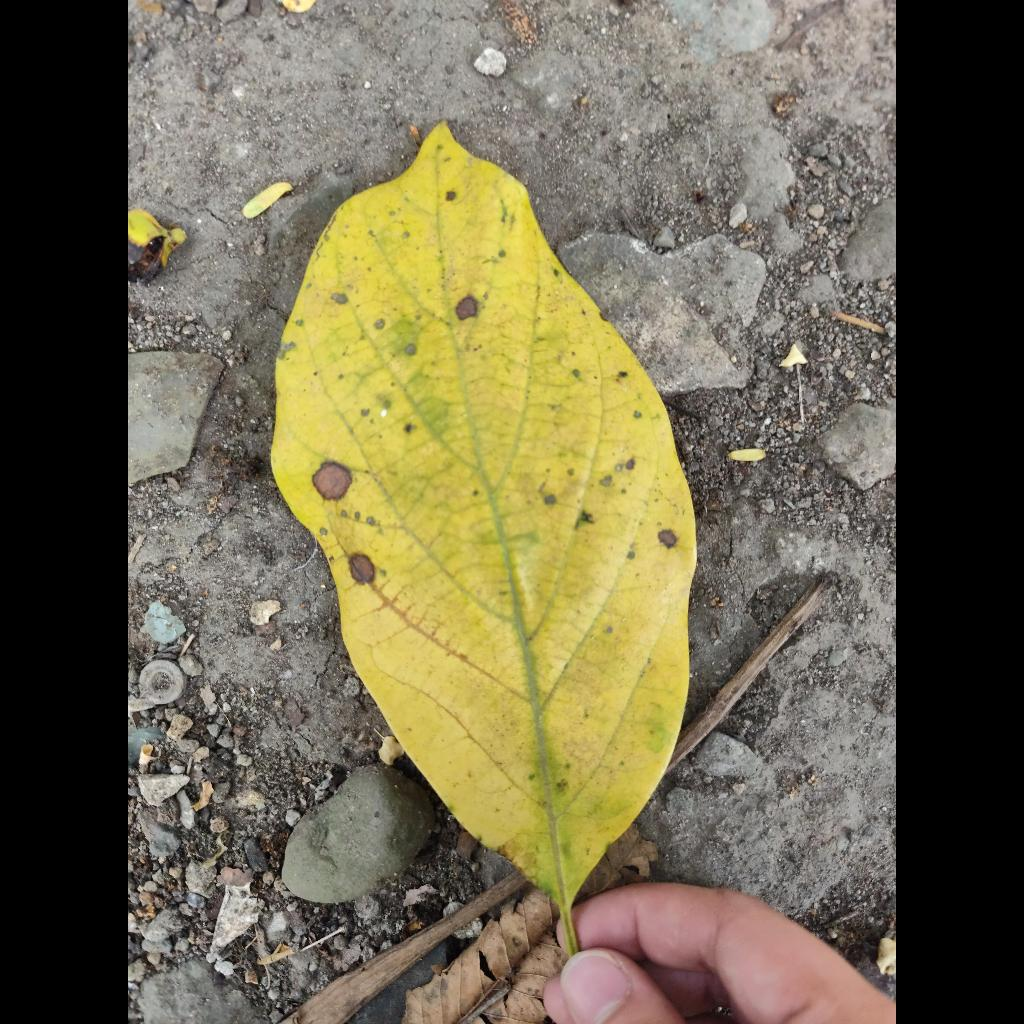nutrient_deficiency: (272, 123, 696, 953)
